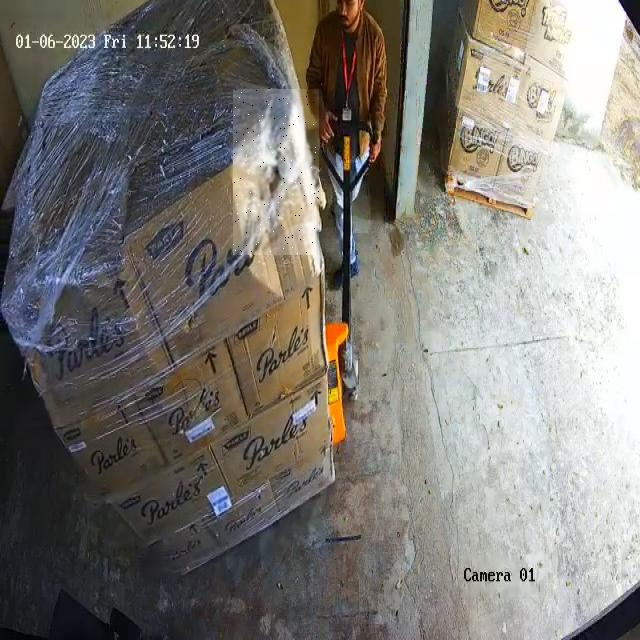squeeze: (233, 90, 319, 254)
